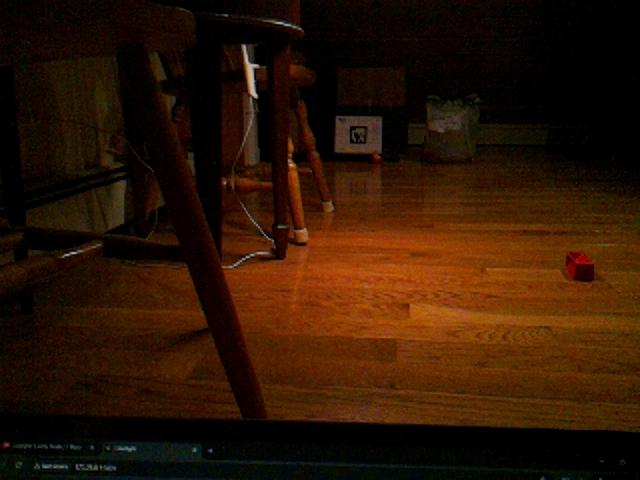red: (564, 249, 596, 283)
